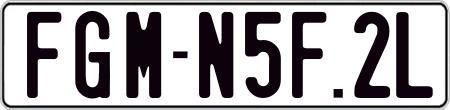2: (352, 9, 393, 95)
5: (245, 10, 285, 102)
F: (24, 12, 59, 102), (290, 10, 325, 98)
G: (72, 9, 111, 98)
L: (393, 11, 434, 99)
M: (124, 9, 160, 99)
N: (198, 9, 233, 97)
